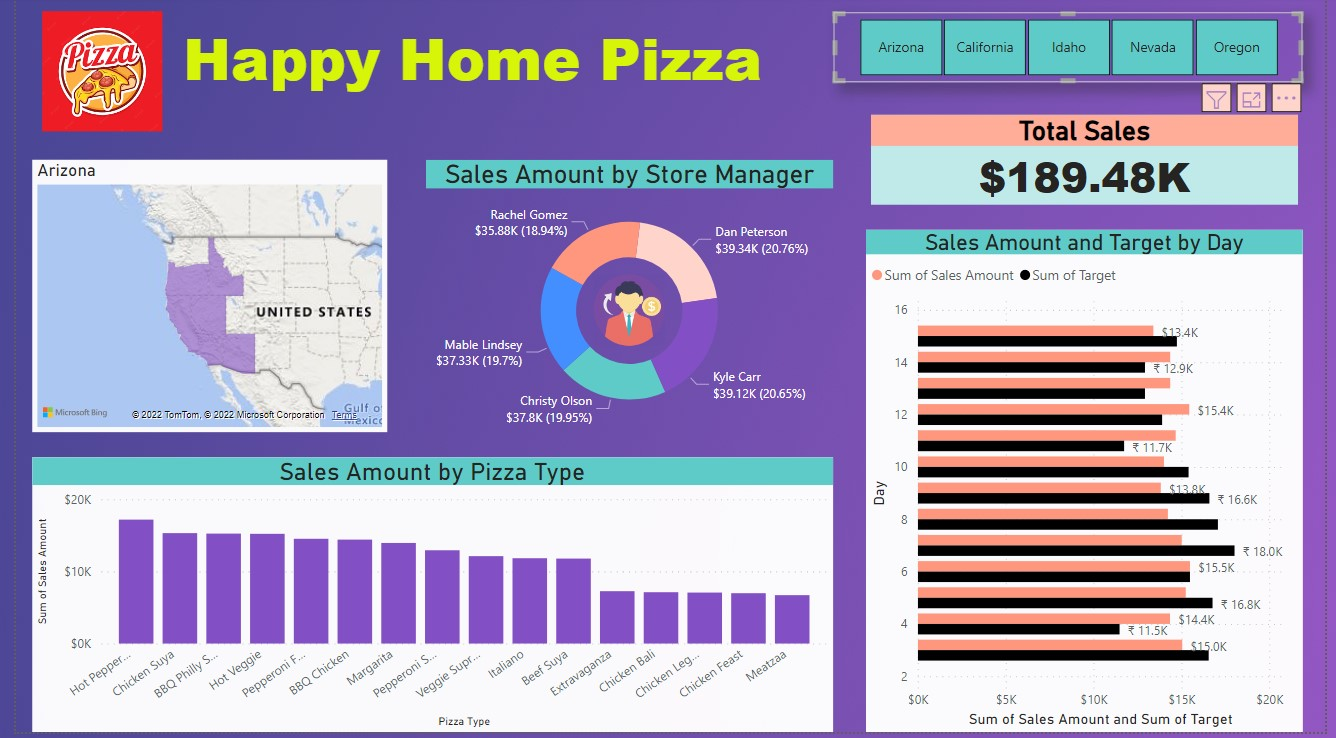

What the dashboard file says about the page in this screenshot:
{"tool":"powerbi","page":{"name":"Pizza_Sales_report","canvas":[1280,720],"ordinal":0},"visuals":[{"type":"image","box":[20.6,1.4,127.7,144.2],"z":0},{"type":"textbox","box":[134,16,624,112],"z":1000},{"type":"card","title":"Total Sales","fields":{"Values":["Sales.Sales Amount"]},"box":[836.4,116.7,417.5,87.9],"z":2000},{"type":"filledMap","fields":{"Category":["Branch Data.State"]},"box":[16.5,160.7,347.5,266.4],"z":3000},{"type":"donutChart","title":"Sales Amount by Store Manager","fields":{"Category":["Branch Data.Store Manager"],"Y":["Sales.Sales Amount"]},"box":[401,160.7,398,267],"z":3001},{"type":"image","box":[543.9,266.4,111.2,81],"z":3002},{"type":"slicer","fields":{"Values":["Branch Data.State"]},"box":[799.3,16.5,458.7,67.3],"z":3003},{"type":"clusteredBarChart","title":" Sales Amount and Target by Day","fields":{"Category":["Daily Target.Day.Variation.Date Hierarchy.Day"],"Y":["Sales.Sales Amount","Daily Target.Target"]},"box":[830.9,228,427.1,491.7],"z":3004},{"type":"columnChart","title":"Sales Amount by Pizza Type","fields":{"Category":["Sales.Pizza Type"],"Y":["Sales.Sales Amount"]},"box":[16.5,450.5,782.8,269.2],"z":3005}]}

Visuals, with their boxes in screenshot pixels (x1, y1, x2, y2), scaled from the page's 1280x720 canvas onto the 1336x738 screenshot:
image: pyautogui.locateOnScreen(22, 1, 155, 149)
textbox: pyautogui.locateOnScreen(140, 16, 791, 131)
"Total Sales" card: pyautogui.locateOnScreen(873, 120, 1309, 210)
filledMap - Branch Data.State: pyautogui.locateOnScreen(17, 165, 380, 438)
"Sales Amount by Store Manager" donutChart: pyautogui.locateOnScreen(419, 165, 834, 438)
image: pyautogui.locateOnScreen(568, 273, 684, 356)
slicer - Branch Data.State: pyautogui.locateOnScreen(834, 17, 1313, 86)
" Sales Amount and Target by Day" clusteredBarChart: pyautogui.locateOnScreen(867, 234, 1313, 737)
"Sales Amount by Pizza Type" columnChart: pyautogui.locateOnScreen(17, 462, 834, 737)
